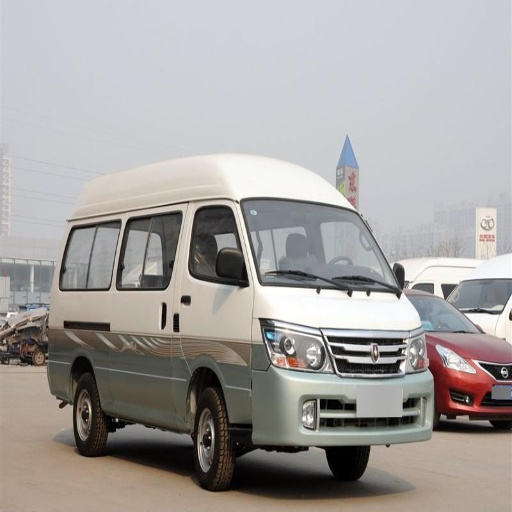front_bumper: (250, 328, 439, 446)
front_glass: (241, 198, 395, 292)
front_right_door: (178, 202, 252, 336)
front_right_light: (267, 323, 331, 371)
hood: (276, 288, 423, 331)
trunk: (51, 292, 238, 422)
